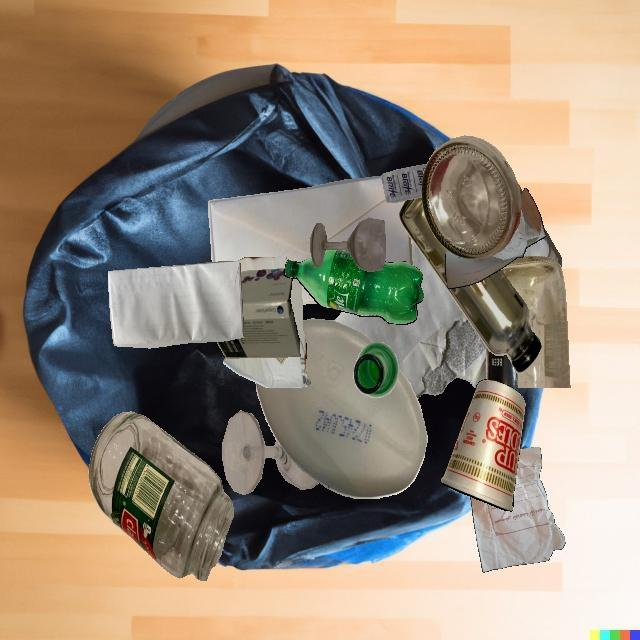cardboard: (223, 278, 311, 388), (217, 268, 300, 358)
glass: (398, 197, 541, 373), (88, 412, 234, 581), (421, 136, 521, 260), (486, 256, 570, 388), (222, 411, 319, 494), (310, 218, 386, 272), (353, 342, 399, 398)
paper: (334, 262, 486, 399), (208, 176, 412, 265), (470, 447, 565, 573), (108, 261, 244, 348), (445, 188, 546, 289), (424, 188, 546, 262)
plastic: (255, 319, 428, 498), (284, 250, 424, 325), (381, 164, 427, 203)
trash: (440, 380, 526, 511)
